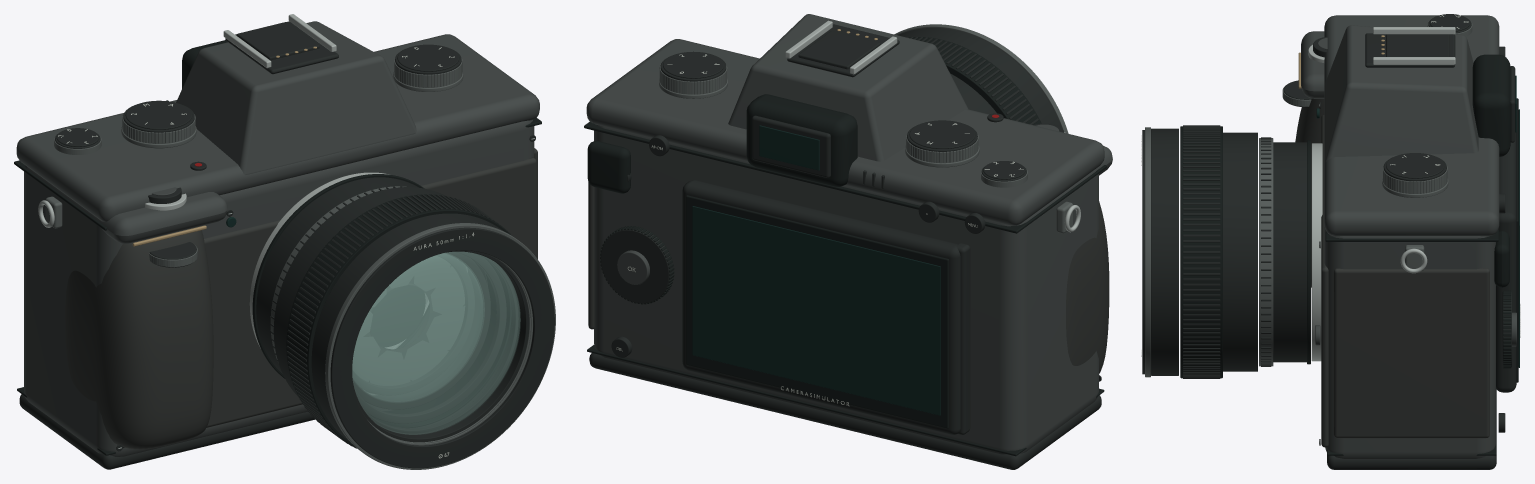
The model's file is camera.glb.
The picture shows the model from 3 angles, left to right: view 1: azimuth 30°, elevation 25°; view 2: azimuth 150°, elevation 25°; view 3: azimuth 270°, elevation 25°; orthographic projection. The views are drawn at different scales.
Parts seen in each view (by area): view 1: Chassis, Sculpted_Grip, Front_Optical_Element, Top_Plate, Viewfinder_Housing, Front_Leather_Panel, Front_Name_Ring, Inner_Optical_Element, Focus_Grip, Lens_Front_Barrel, Lens_Barrel_Middle, Lens_Rear_Barrel (+27 smaller); view 2: Chassis, LCD_Glass, Top_Plate, Viewfinder_Housing, LCD_Frame, LCD_Bezel, Bottom_Plate, Sculpted_Grip, EVF_Eyecup, Rear_Control_Wheel, Lens_Front_Barrel, Focus_Grip (+15 smaller); view 3: Right_Side_Leather, Top_Plate, Viewfinder_Housing, Chassis, Lens_Barrel_Middle, Focus_Grip, Lens_Rear_Barrel, Lens_Front_Barrel, EVF_Eyecup, LCD_Frame, Aperture_Ring, Lens_Mount (+19 smaller).
Part boxes in pixels (<box>): Chassis: <box>24,120,534,456</box>; Sculpted_Grip: <box>65,226,213,449</box>; Front_Optical_Element: <box>352,252,520,434</box>; Top_Plate: <box>16,34,539,221</box>; Viewfinder_Housing: <box>176,21,416,174</box>; Front_Leather_Panel: <box>123,157,536,448</box>; Front_Name_Ring: <box>330,227,554,468</box>; Inner_Optical_Element: <box>352,253,483,401</box>; Focus_Grip: <box>286,194,511,447</box>; Lens_Front_Barrel: <box>311,213,533,442</box>; Lens_Barrel_Middle: <box>273,187,487,411</box>; Lens_Rear_Barrel: <box>256,177,429,373</box>; Chassis: <box>594,125,1098,454</box>; LCD_Glass: <box>692,206,940,415</box>; Top_Plate: <box>586,39,1104,225</box>; Viewfinder_Housing: <box>728,14,968,161</box>; LCD_Frame: <box>682,180,960,434</box>; LCD_Bezel: <box>686,195,948,428</box>; Bottom_Plate: <box>589,353,1101,469</box>; Sculpted_Grip: <box>1066,201,1109,373</box>; EVF_Eyecup: <box>746,94,857,186</box>; Rear_Control_Wheel: <box>600,227,673,303</box>; Lens_Front_Barrel: <box>897,28,1061,127</box>; Focus_Grip: <box>908,37,1041,124</box>; Right_Side_Leather: <box>1333,268,1489,438</box>; Top_Plate: <box>1324,15,1499,236</box>; Viewfinder_Housing: <box>1325,25,1478,162</box>; Chassis: <box>1324,226,1495,458</box>; Lens_Barrel_Middle: <box>1223,132,1257,371</box>; Focus_Grip: <box>1180,126,1222,378</box>; Lens_Rear_Barrel: <box>1273,142,1306,362</box>; Lens_Front_Barrel: <box>1151,128,1178,375</box>; EVF_Eyecup: <box>1472,54,1510,156</box>; LCD_Frame: <box>1496,132,1516,392</box>; Aperture_Ring: <box>1259,138,1273,366</box>; Lens_Mount: <box>1311,143,1322,361</box>.
Size of the model in its own units: 15 by 10.84 by 11.17.
